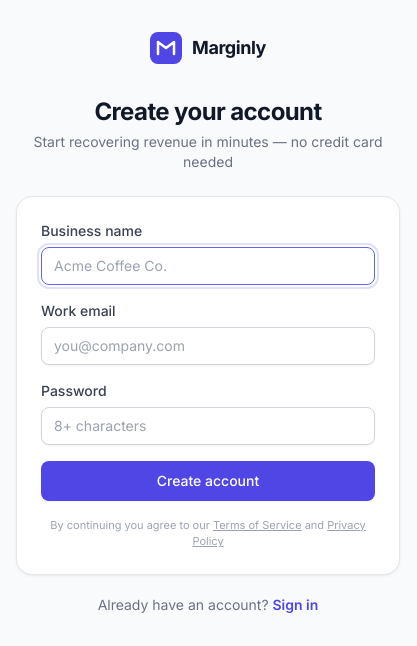
Test: SignupPage › shows password length validation error
The image size is (417, 646).
Type "My Business" into the field with placeholder "Acme Coffee Co." at {"x": 208, "y": 266}, box [41,246,375,284]
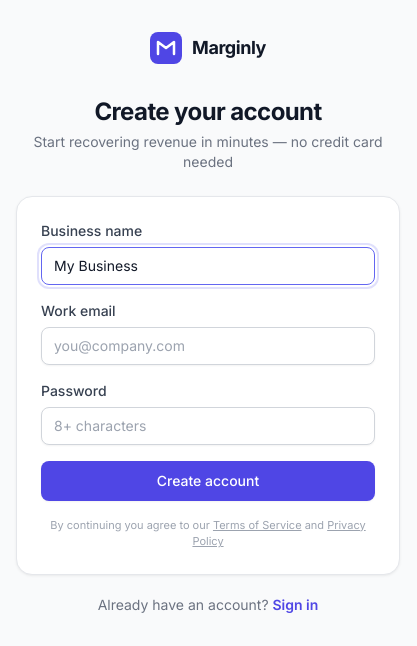
Type "test@example.com" into the field with placeholder "you@company.com" at {"x": 208, "y": 346}, box [41,326,375,364]
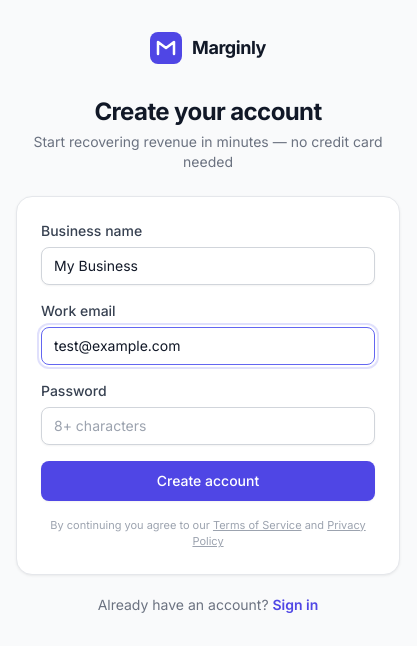
Type "short" into the password field with placeholder "8+ characters" at {"x": 208, "y": 426}, box [41,406,375,444]
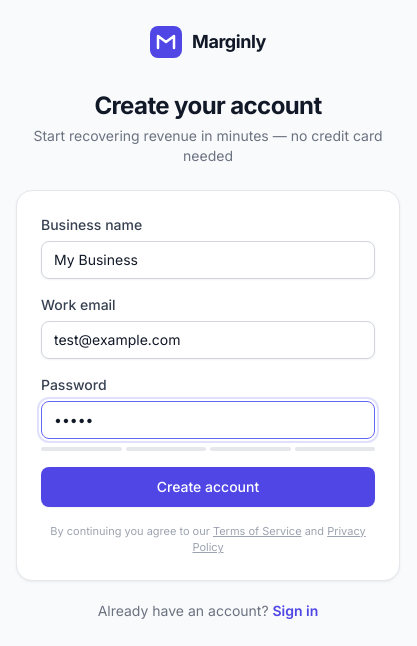
Click the button "Create account" at {"x": 208, "y": 486}, box [41,466,375,506]
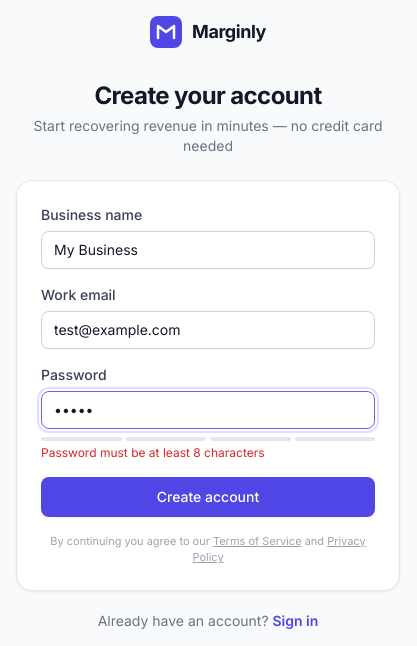
Expected: the text "Password must be at least 8 characters" is shown, [41,444,265,460]
